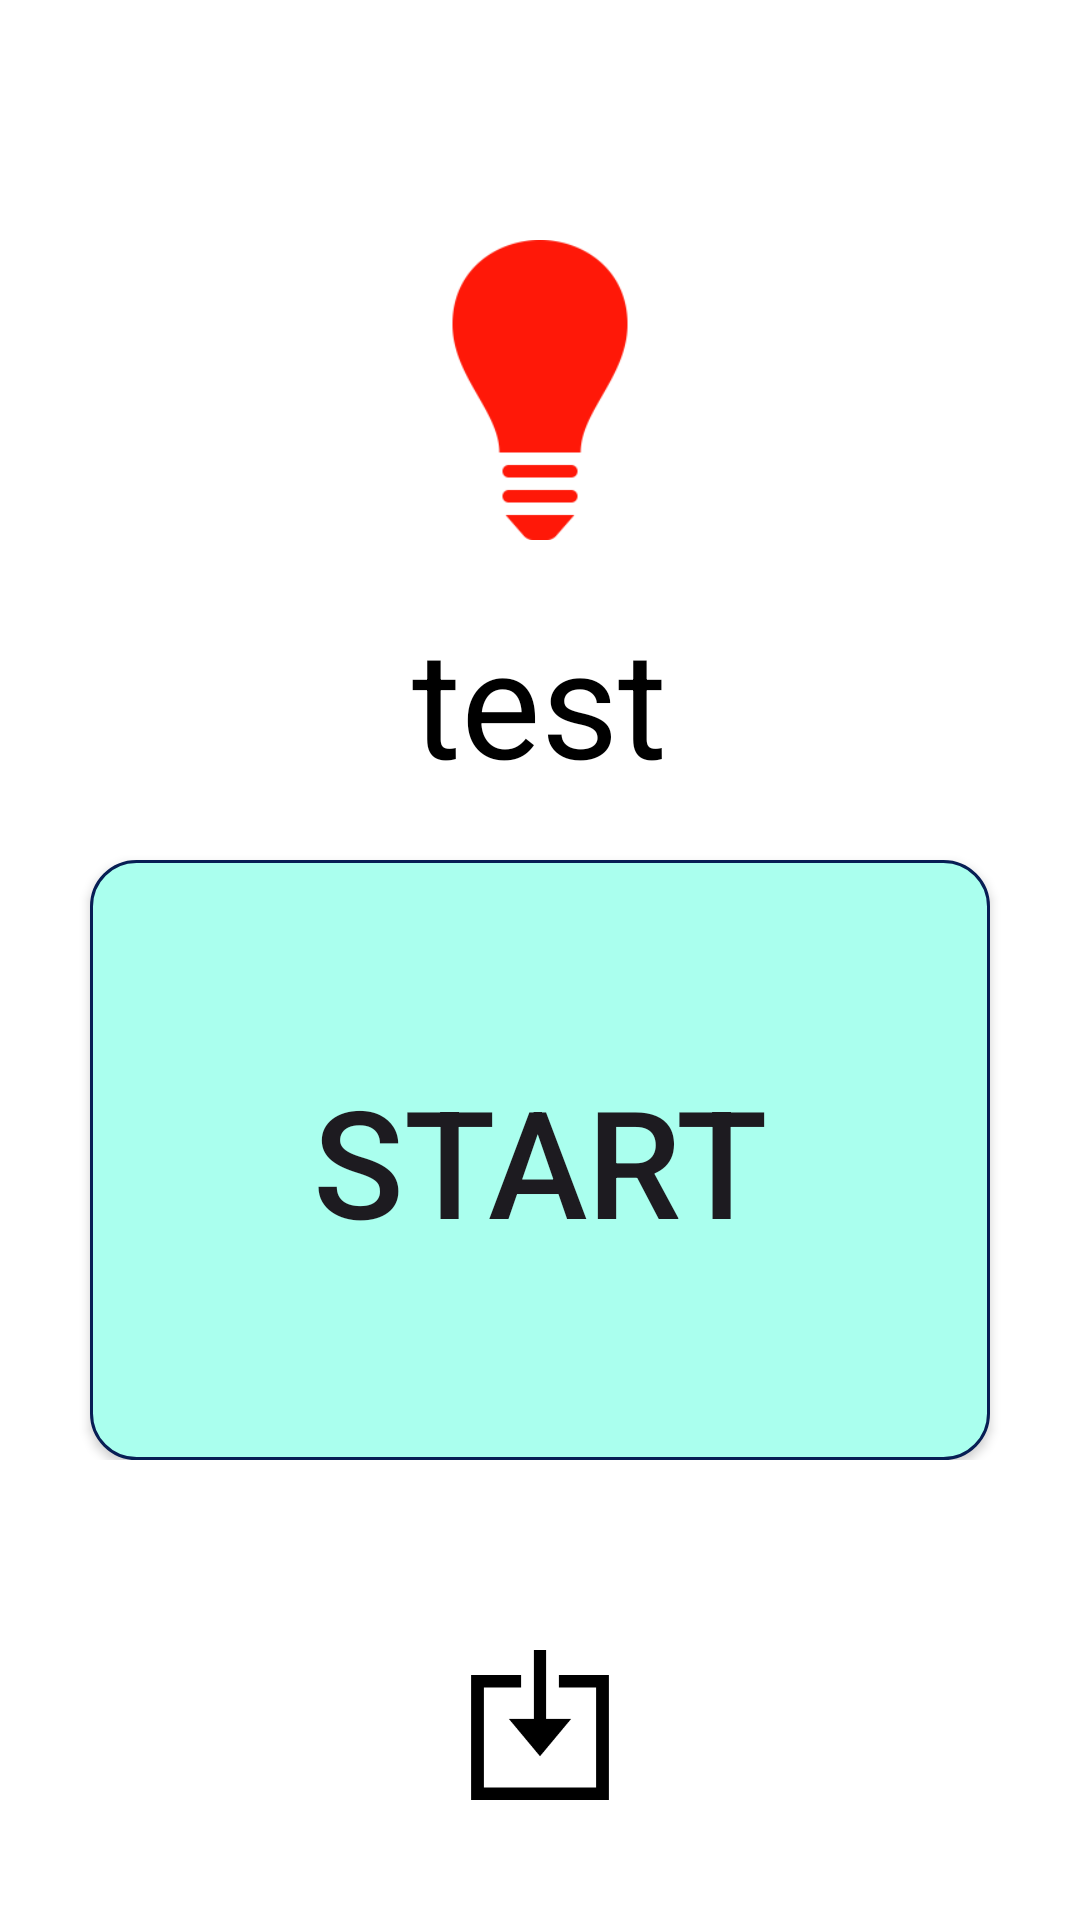

Where to tap for icons on this 1080px×1920px app screen, as (x=x, y=y):
save: (x=540, y=1725)
